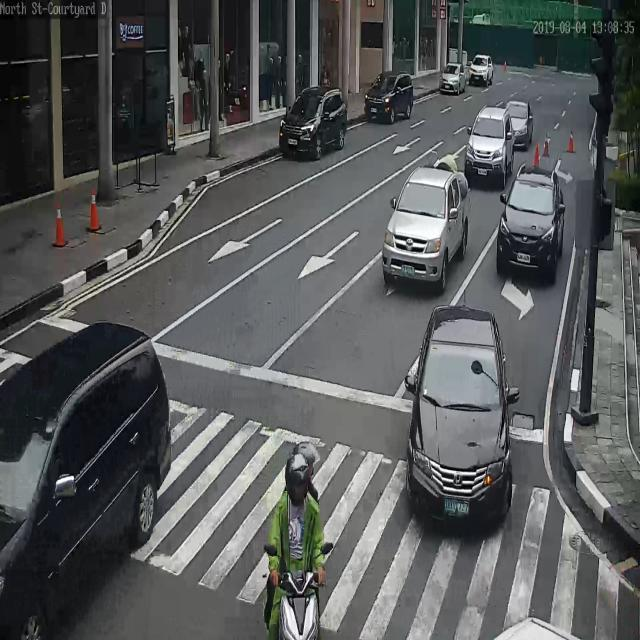car: (0, 322, 172, 640), (407, 305, 511, 532), (382, 160, 470, 292), (496, 165, 565, 279), (279, 84, 347, 160), (465, 108, 514, 184), (363, 73, 413, 126), (506, 100, 532, 146), (441, 63, 467, 95), (470, 54, 494, 86)
jeepney: (266, 440, 325, 640)
